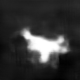plane: (19, 27, 72, 69)
